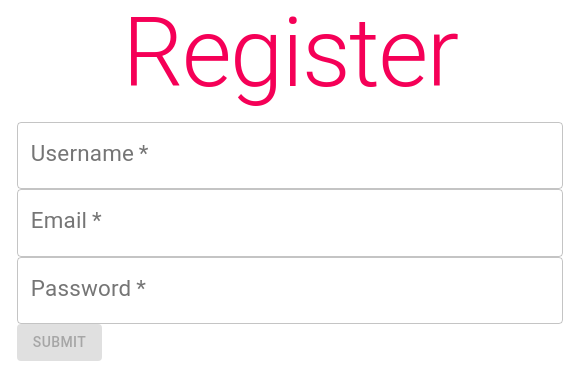
Scenario: Register › Button should be enabled on valid email, password and username
Check: the button "Submit" is disabled, box [17,324,102,360]
Type "email@gmail.com" into the field labelled "Email *" at (290, 223), box [17,189,563,257]
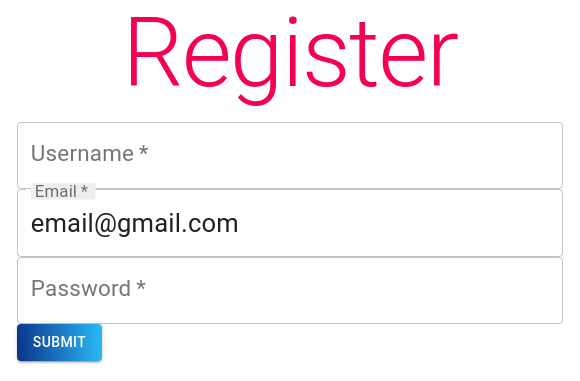
Type "sdafFDAS!@#12" into the password field labelled "Password *" at (290, 290), box [17,257,563,324]
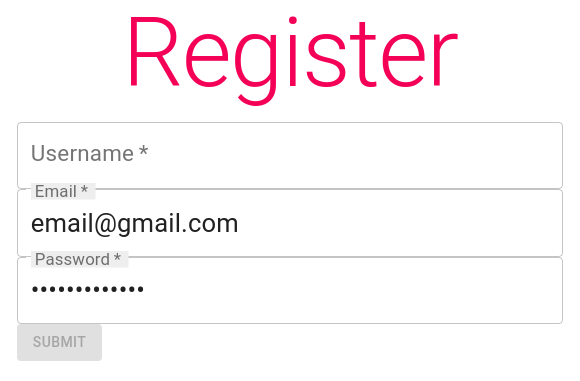
Check: the button "Submit" is disabled, box [17,324,102,360]
Type "username1" into the field labelled "Username *" at (290, 156), box [17,122,563,189]
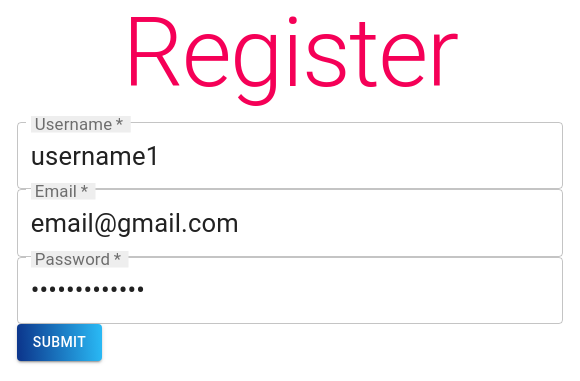
Check: the button "Submit" is enabled, box [17,324,102,360]
